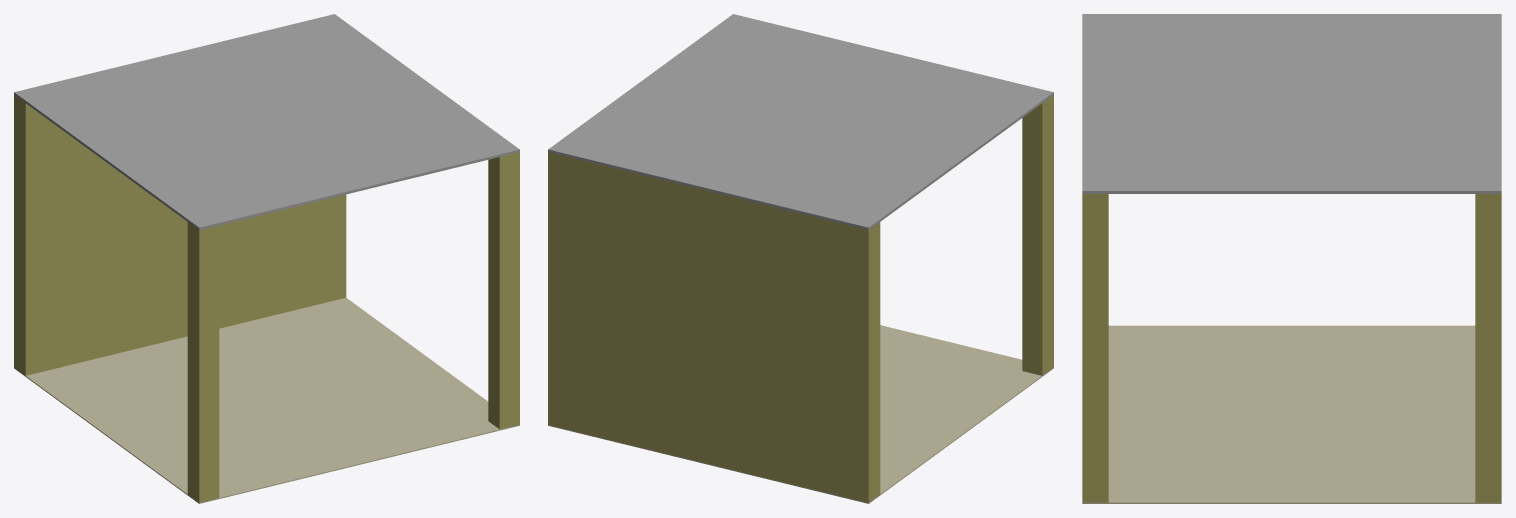
File: tile7.gltf
3 views of the same model, side by side, from view 1: azimuth 30°, elevation 25°; view 2: azimuth 150°, elevation 25°; view 3: azimuth 270°, elevation 25° (orthographic). The views are drawn at different scales.
Parts seen in each view (by area): view 1: cube (×5); view 2: cube (×4); view 3: cube (×4).
Boxes of the visible parts, box(x1,y1,x2,y2) form: cube (×5): box(14, 14, 519, 503); cube (×4): box(548, 14, 1053, 503); cube (×4): box(1082, 14, 1501, 503).
Size of the model in its own units: 1 by 0.8234 by 1.
1 material, 1 textured.
